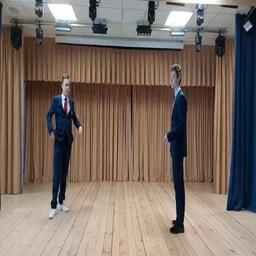person: (47, 74, 82, 218), (164, 64, 187, 233)
